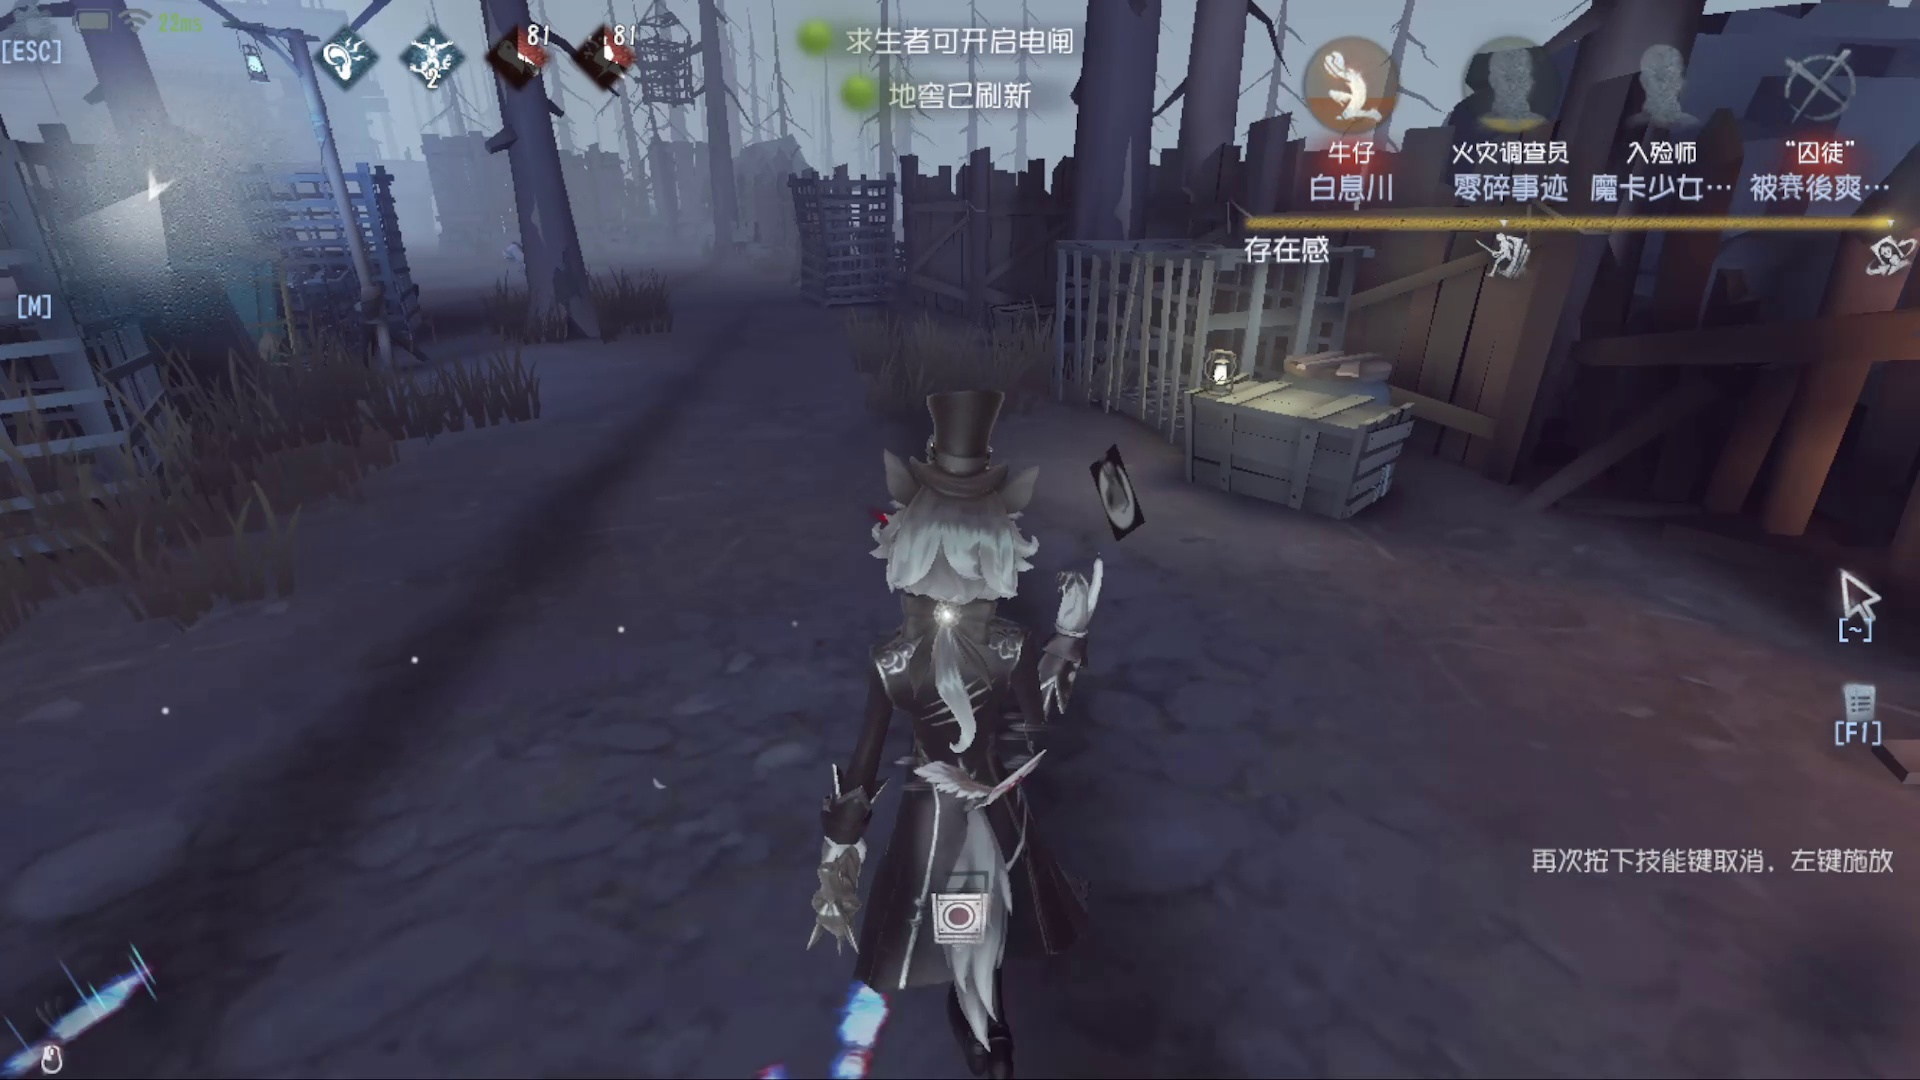木板: (169, 218, 310, 407)
